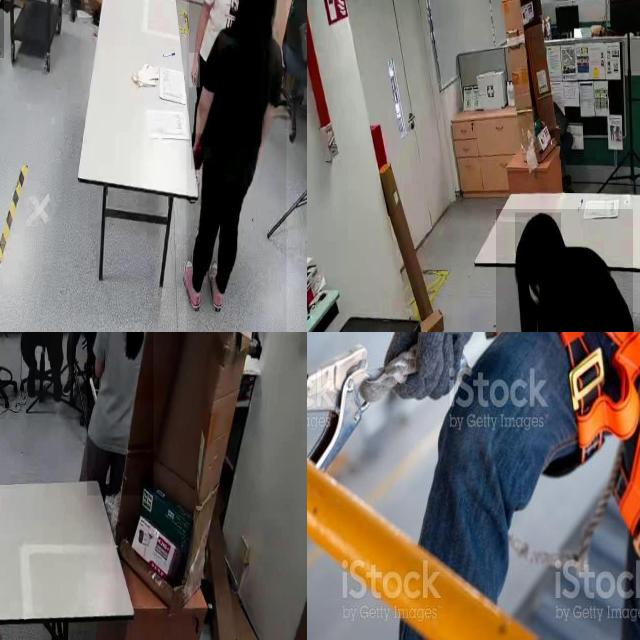Harness: (561, 332, 640, 556)
hand_noglove: (191, 134, 203, 170), (189, 53, 201, 88)
head_nohelmet: (515, 212, 561, 255)
person: (186, 0, 287, 332), (496, 209, 633, 332), (87, 332, 154, 496), (189, 0, 262, 146), (22, 332, 72, 403)
shoes: (180, 256, 204, 316), (206, 258, 226, 314), (23, 358, 41, 400), (59, 371, 78, 404), (49, 370, 64, 406)
